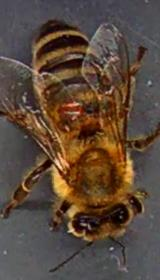varroa_mite: (59, 94, 85, 119)
